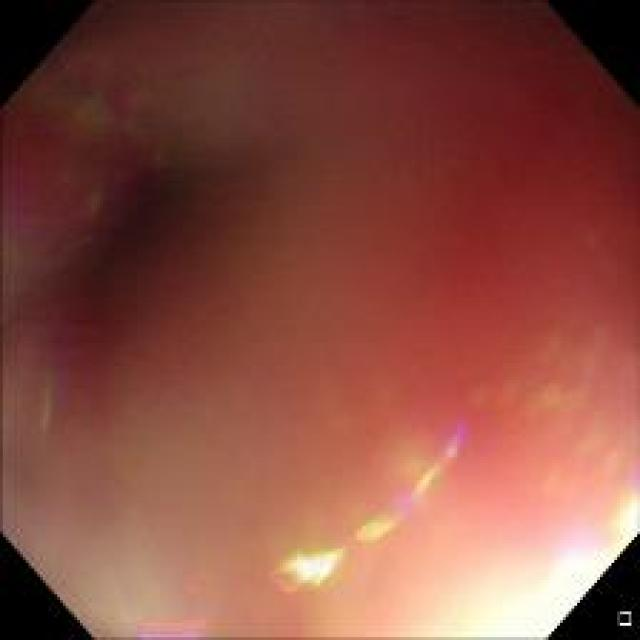color misalignment: (11, 50, 631, 626), (355, 425, 472, 560), (516, 356, 625, 491), (109, 595, 215, 638), (270, 541, 336, 602), (36, 356, 58, 464)
saturation: (454, 546, 618, 634)
